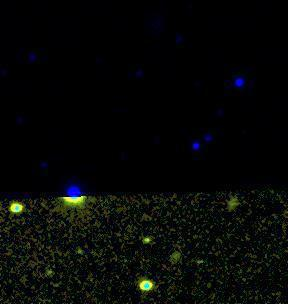star: (132, 222, 162, 252)
